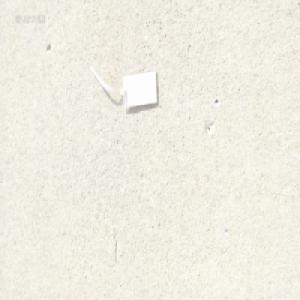LuggageTag: (86, 65, 158, 111)
